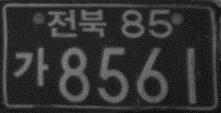1: (182, 43, 198, 103)
5: (96, 46, 129, 104), (147, 7, 173, 38)
6: (134, 45, 167, 103)
8: (59, 47, 91, 102), (121, 8, 144, 39)
가: (13, 45, 49, 88)
전북_O: (47, 6, 106, 38)
